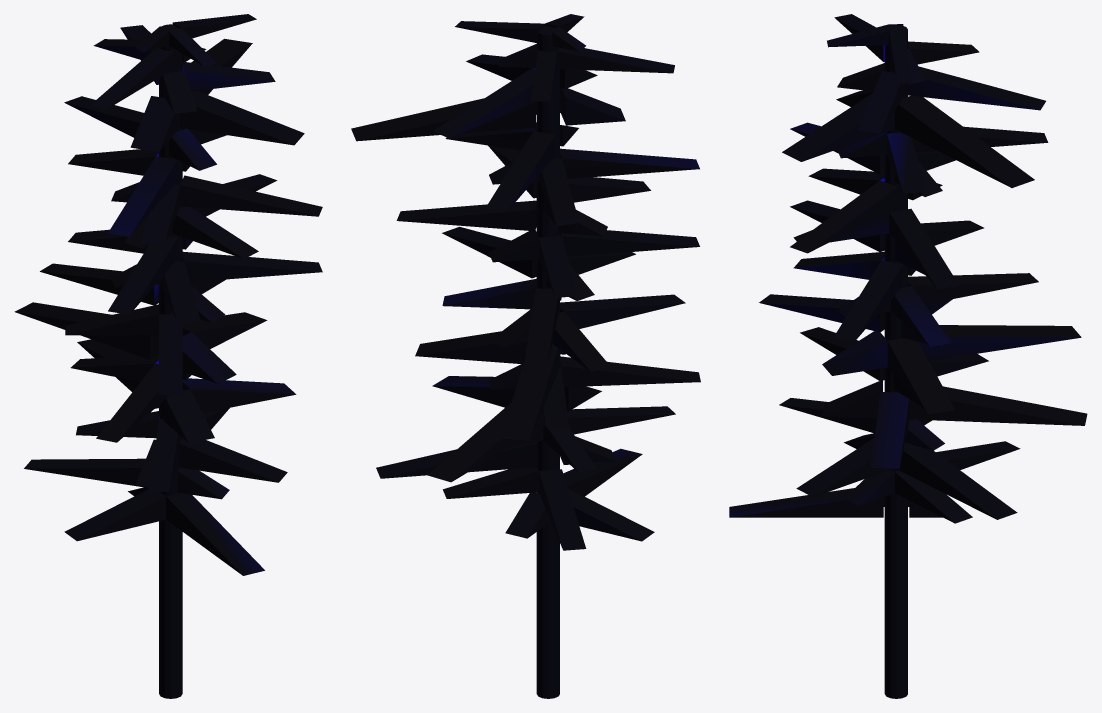
The model's file is SM_tree02.FBX.
3 views of the same model, side by side, from view 1: azimuth 30°, elevation 25°; view 2: azimuth 150°, elevation 25°; view 3: azimuth 270°, elevation 25° (orthographic).
Visible parts, largest first — view 1: Tree_02; view 2: Tree_02; view 3: Tree_02.
Part boxes in pixels (x1,y1,x2,y2): Tree_02: (14, 14, 322, 698); Tree_02: (351, 14, 700, 698); Tree_02: (729, 14, 1087, 698).
Size of the model in its own units: 125 by 314 by 153.
